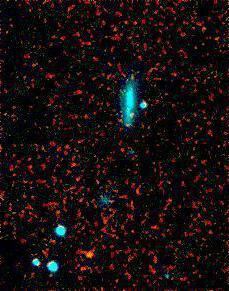star: (75, 240, 105, 270)
